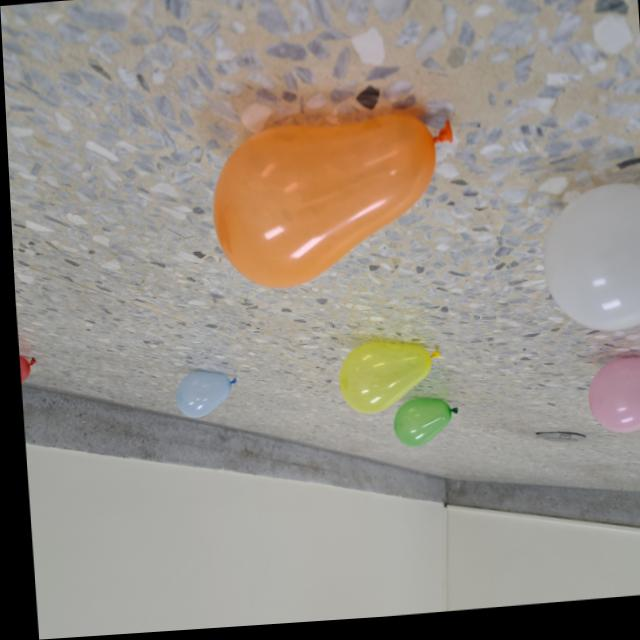other: (204, 108, 461, 298), (534, 190, 640, 342), (332, 341, 440, 421), (580, 361, 640, 443), (387, 399, 454, 454), (169, 372, 234, 422)
red: (15, 349, 33, 394)
